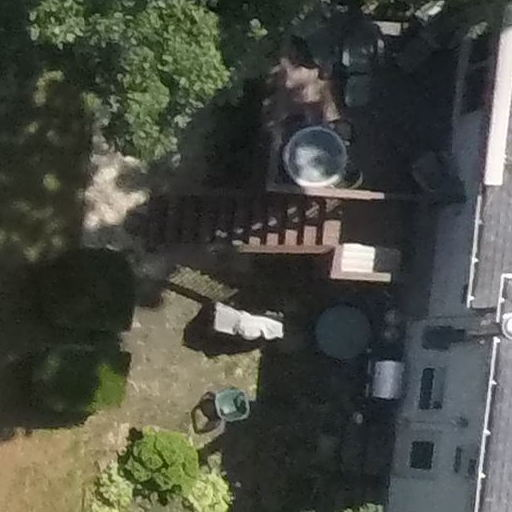chair: (208, 382, 256, 422)
porch: (149, 17, 459, 290)
table: (286, 121, 357, 198), (312, 299, 374, 368)
